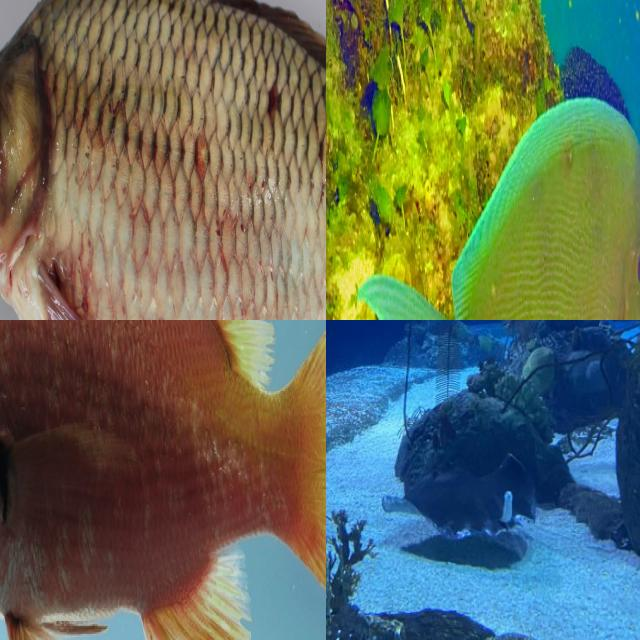fish: (0, 0, 326, 320), (0, 320, 326, 640), (326, 79, 639, 320)
